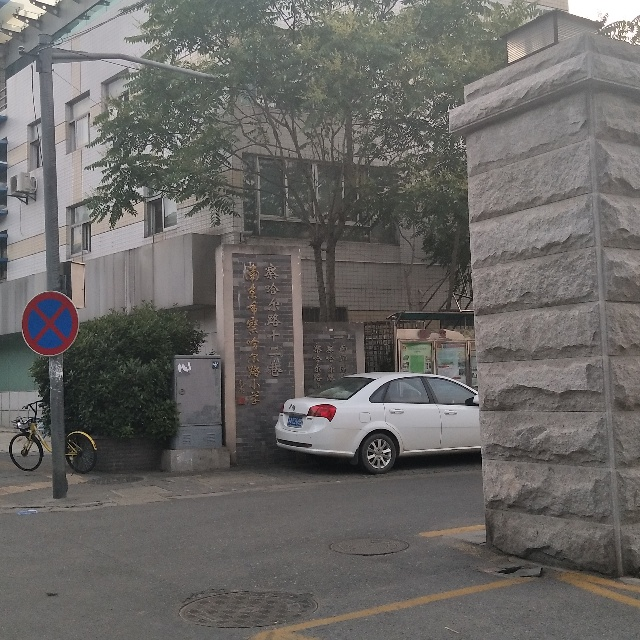stop: (21, 296, 73, 350)
